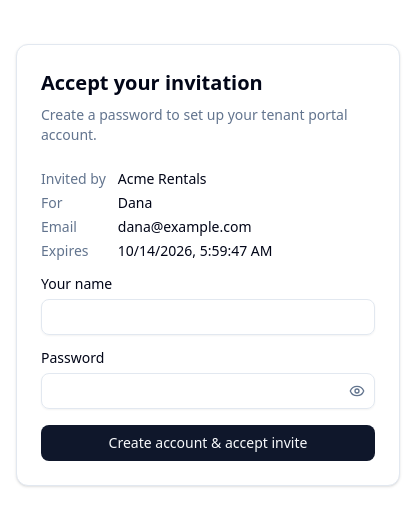
Test: AcceptInvitePage › shows the invite preview, then the same generic failure message on a 404 from accept, regardless of the server-side reason
Expected: the text "Acme Rentals" is shown, x1=118 y1=169 x2=207 y2=188
Expected: the text "dana@example.com" is shown, x1=118 y1=217 x2=252 y2=236
Type "Dana Scully" into the field labelled "Your name". click: (208, 317)
box: x1=41 y1=299 x2=375 y2=335
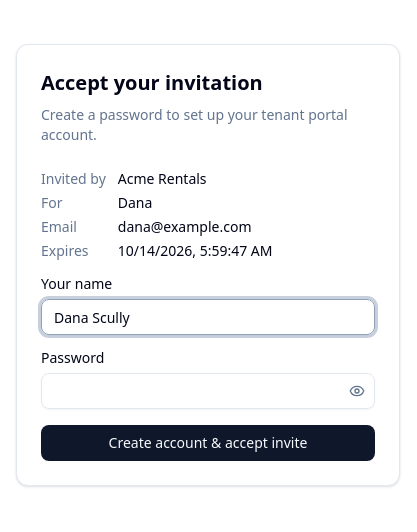
Type "supersecret123" into the password field labelled "Password". click: (208, 391)
box: x1=41 y1=373 x2=375 y2=409
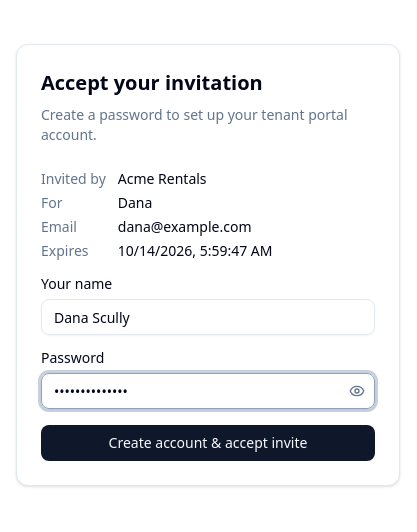
Click the button "Create account & accept invite". click: (208, 443)
box: x1=41 y1=425 x2=375 y2=461
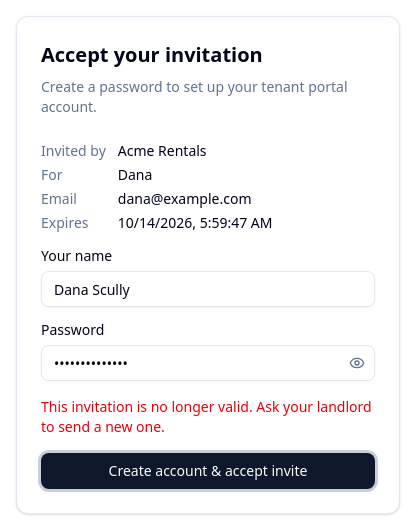
Expected: the text "This invitation is no longer valid. Ask your landlord to send a new one." is shown, x1=41 y1=397 x2=375 y2=437
